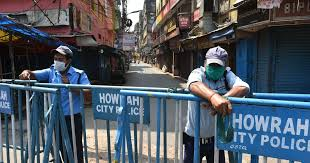mask: (202, 51, 227, 80), (49, 45, 71, 72)
